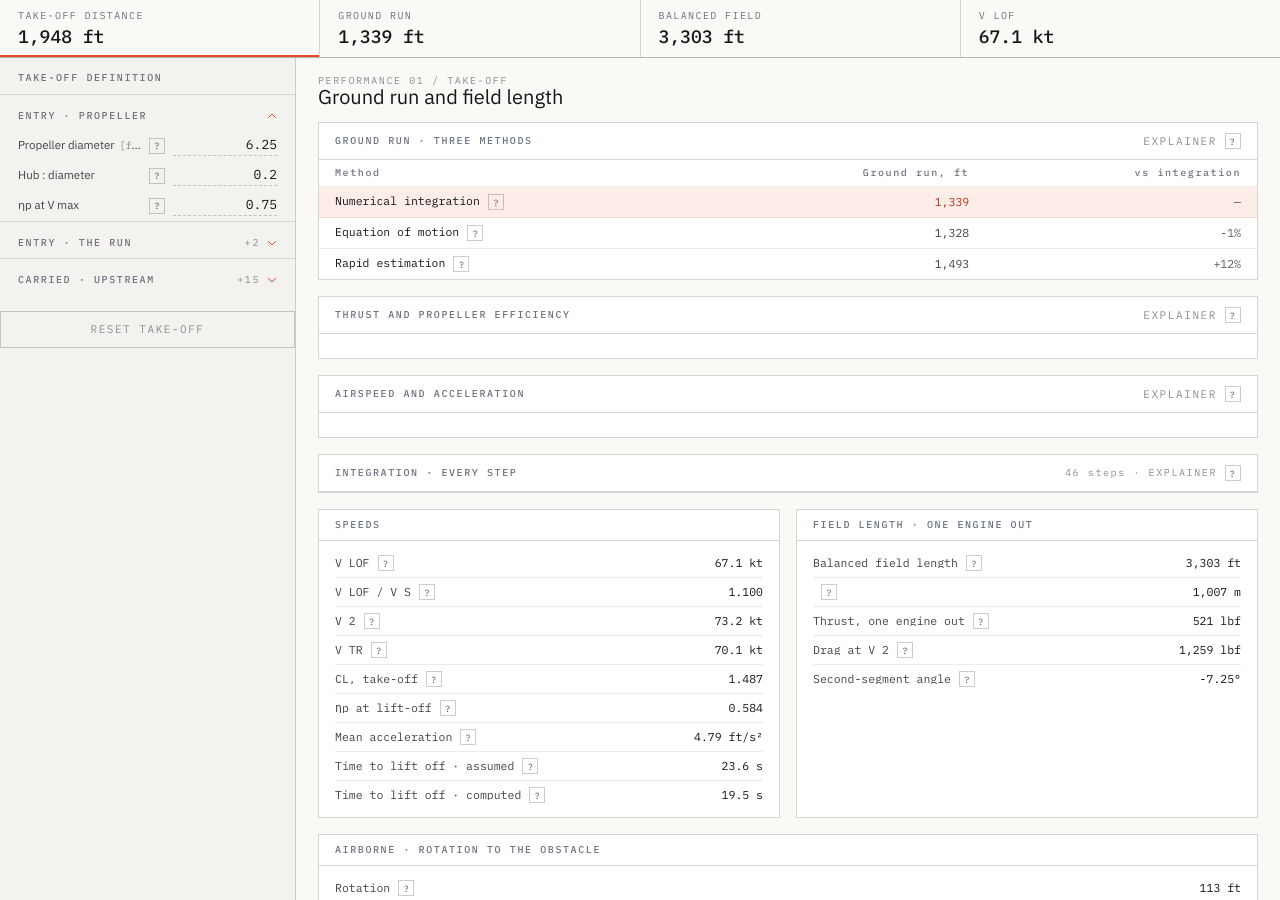
Test: TakeOff › marks missing entries and withholds results
Step 1. Replace the text in the field with id "to-propellerDiameterFt" with "0" → (225, 146), box [173, 136, 277, 156]
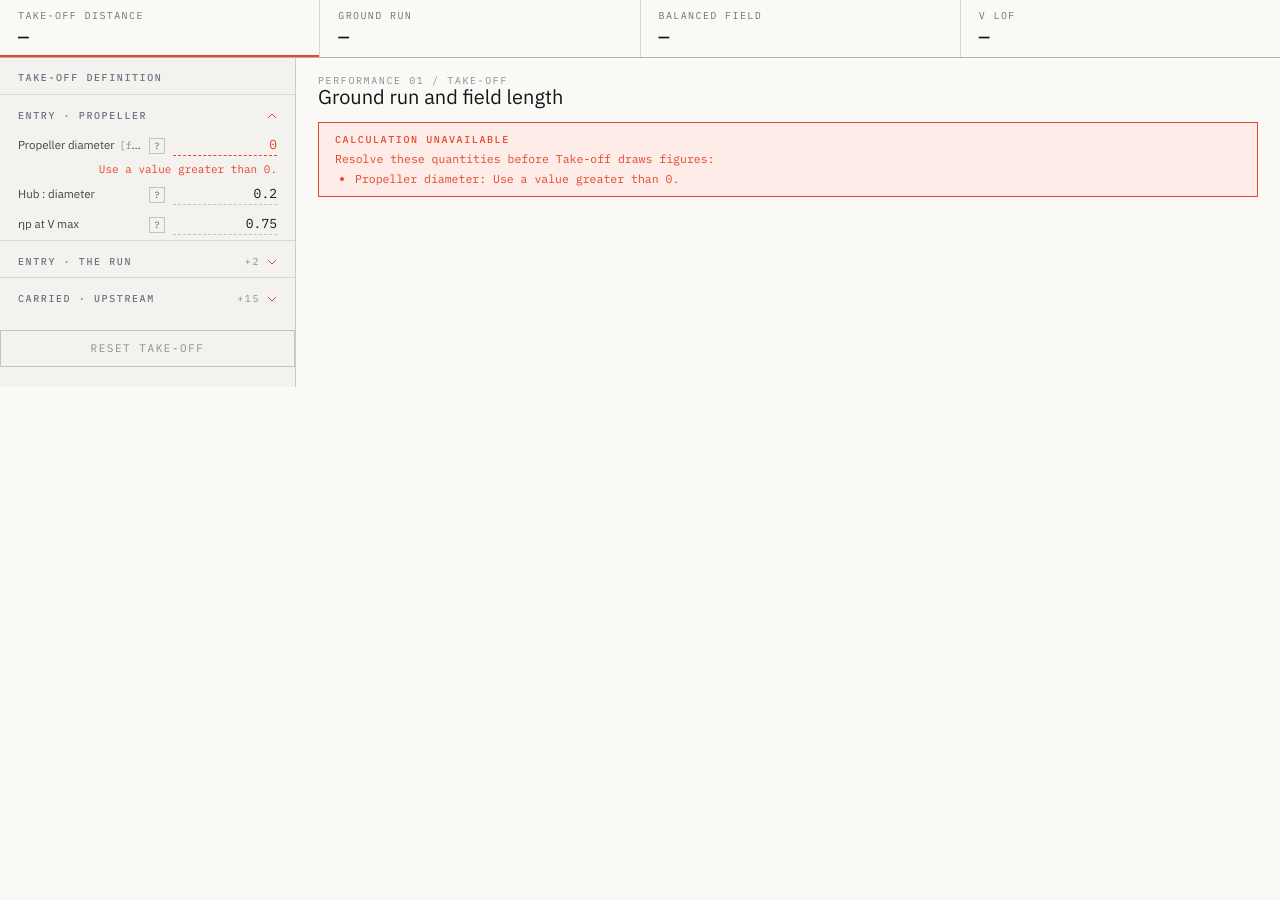
Now the text "Use a value greater than 0." is shown, box [99, 162, 277, 176]
Now the heading "CALCULATION UNAVAILABLE" is shown, box [335, 133, 510, 146]
Now the text "—" below "TAKE-OFF DISTANCE" is shown, box [18, 25, 29, 48]
